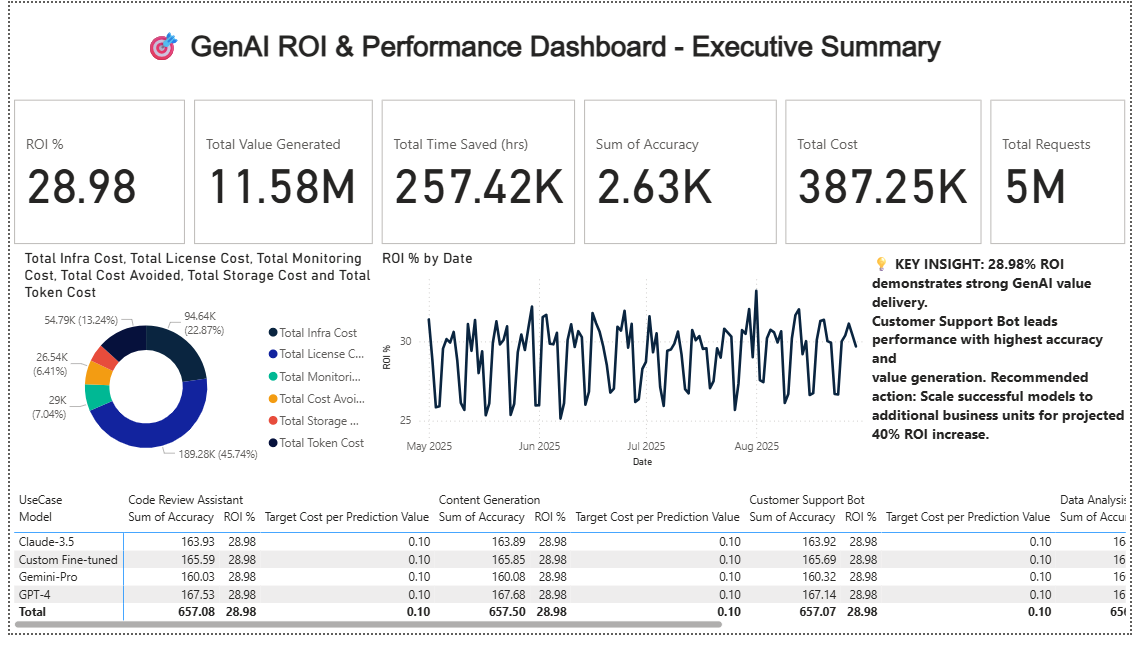

Layout of this report page (visuals, bound fields, positions):
{"tool":"powerbi","page":{"name":"Page 1","canvas":[1280,720],"ordinal":0},"visuals":[{"type":"cardVisual","fields":{"Data":["Sum(ModelPerformance.Accuracy)"]},"box":[651.4,105.7,230,175.7],"z":0},{"type":"cardVisual","fields":{"Data":["Measures .ROI %"]},"box":[0,105.7,205.7,175.7],"z":1000},{"type":"lineChart","fields":{"Y":["Measures .ROI %"],"Category":["DimDate.Date"]},"box":[420,282,578,254],"z":2000},{"type":"donutChart","fields":{"Y":["Measures .Total Infra Cost","Measures .Total License Cost","Measures .Total Monitoring Cost","Measures .Total Cost Avoided","Measures .Total Storage Cost","Measures .Total Token Cost"]},"box":[11.4,281.4,408.6,257.1],"z":3000},{"type":"textbox","box":[148.6,21.4,922.9,70],"z":4000},{"type":"cardVisual","fields":{"Data":["Measures .Total Value Generated"]},"box":[205.7,105.7,214.3,175.7],"z":5000},{"type":"cardVisual","fields":{"Data":["Measures .Total Time Saved (hrs)"]},"box":[420,105.7,231.4,175.7],"z":6000},{"type":"cardVisual","fields":{"Data":["Measures .Total Cost"]},"box":[881.4,105.7,234.3,175.7],"z":7000},{"type":"pivotTable","fields":{"Rows":["ModelPerformance.Model"],"Columns":["ModelPerformance.UseCase"],"Values":["Sum(ModelPerformance.Accuracy)","Measures .ROI %","Target Cost per Prediction.Target Cost per Prediction Value"]},"box":[0,551.4,1280,168.6],"z":8000},{"type":"cardVisual","fields":{"Data":["Measures .Total Requests"]},"box":[1115.7,105.7,164.3,175.7],"z":9000},{"type":"textbox","box":[980,282,300,270],"z":9001}]}

Visuals, with their boxes in screenshot pixels (x1, y1, x2, y2), scaled from the page's 1280x720 canvas onto the 1148x647 screenshot:
cardVisual - Sum(ModelPerformance.Accuracy): {"x1": 584, "y1": 95, "x2": 791, "y2": 253}
cardVisual - Measures .ROI %: {"x1": 0, "y1": 95, "x2": 184, "y2": 253}
lineChart - Measures .ROI % x DimDate.Date: {"x1": 377, "y1": 253, "x2": 895, "y2": 482}
donutChart - Measures .Total Infra Cost x Measures .Total License Cost: {"x1": 10, "y1": 253, "x2": 377, "y2": 484}
textbox: {"x1": 133, "y1": 19, "x2": 961, "y2": 82}
cardVisual - Measures .Total Value Generated: {"x1": 184, "y1": 95, "x2": 377, "y2": 253}
cardVisual - Measures .Total Time Saved (hrs): {"x1": 377, "y1": 95, "x2": 584, "y2": 253}
cardVisual - Measures .Total Cost: {"x1": 791, "y1": 95, "x2": 1001, "y2": 253}
pivotTable - ModelPerformance.Model x ModelPerformance.UseCase: {"x1": 0, "y1": 495, "x2": 1147, "y2": 646}
cardVisual - Measures .Total Requests: {"x1": 1001, "y1": 95, "x2": 1147, "y2": 253}
textbox: {"x1": 879, "y1": 253, "x2": 1147, "y2": 496}
